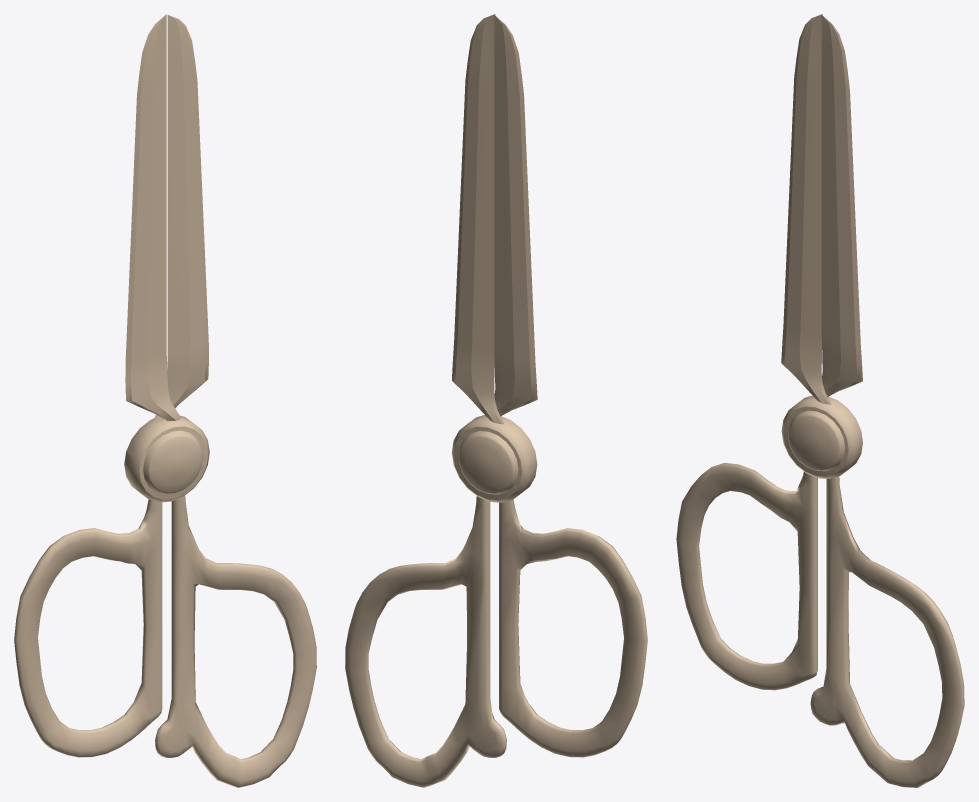
File: Tijera_Final_con_UVS.fbx
3 views of the same model, side by side, from view 1: azimuth 30°, elevation 25°; view 2: azimuth 150°, elevation 25°; view 3: azimuth 330°, elevation 25° (orthographic). The views are drawn at different scales.
Visible parts, largest first — view 1: Tijera; view 2: Tijera; view 3: Tijera.
Part boxes in pixels (x1,y1,x2,y2): Tijera: [14, 14, 316, 787]; Tijera: [345, 14, 647, 787]; Tijera: [676, 14, 964, 787].
Size of the model in its own units: 3.29 by 8.22 by 0.4088.
